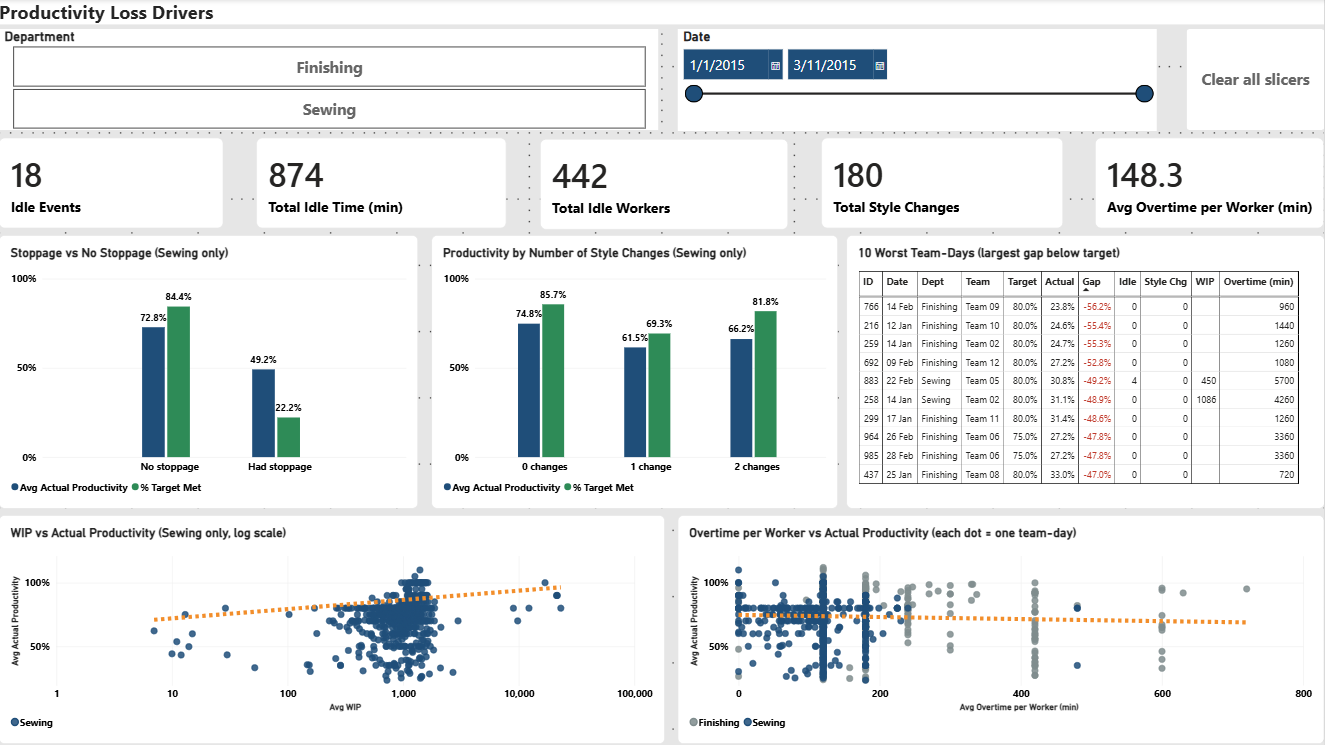

Layout of this report page (visuals, bound fields, positions):
{"tool":"powerbi","page":{"name":"Loss Drivers","canvas":[1920,1080],"ordinal":2},"visuals":[{"type":"textbox","box":[0,0,1920.3,37],"z":0},{"type":"slicer","fields":{"Values":["Production.department"]},"box":[0,42.6,955.6,146.3],"z":1000},{"type":"slicer","fields":{"Values":["DimDate.Date"]},"box":[983.3,42.6,692.6,146.3],"z":2000},{"type":"actionButton","box":[1720.4,42.6,200,146.3],"z":3000},{"type":"cardVisual","fields":{"Data":["_Measures.Idle Events"]},"box":[0,201.9,325.9,131.5],"z":4000},{"type":"cardVisual","fields":{"Data":["_Measures.Total Style Changes"]},"box":[1191.2,201.9,350,131.5],"z":5000},{"type":"cardVisual","fields":{"Data":["_Measures.Total Idle Time (min)"]},"box":[373.6,201.9,363,131.5],"z":6000},{"type":"cardVisual","fields":{"Data":["_Measures.Total Idle Workers"]},"box":[784.3,203.7,359.3,131.5],"z":7000},{"type":"cardVisual","fields":{"Data":["_Measures.Avg Overtime per Worker (min)"]},"box":[1588.5,201.9,331.5,131.5],"z":8000},{"type":"clusteredColumnChart","title":"Stoppage vs No Stoppage (Sewing only)","fields":{"Category":["Production.idle_flag"],"Y":["_Measures.Avg Actual Productivity","_Measures.% Target Met"]},"box":[0,342.6,607.4,396.3],"z":9000},{"type":"clusteredColumnChart","title":"Productivity by Number of Style Changes (Sewing only)","fields":{"Category":["Production.style_change_label"],"Y":["_Measures.Avg Actual Productivity","_Measures.% Target Met"]},"box":[625.9,342.6,588.9,396.3],"z":10000},{"type":"scatterChart","title":"WIP vs Actual Productivity (Sewing only, log scale)","fields":{"Category":["Production.record_id"],"Series":["Production.department"],"X":["_Measures.Avg WIP"],"Y":["_Measures.Avg Actual Productivity"]},"box":[0,748.1,964.8,331.5],"z":11000},{"type":"scatterChart","title":"Overtime per Worker vs Actual Productivity (each dot = one team-day)","fields":{"Category":["Production.record_id"],"Series":["Production.department"],"X":["_Measures.Avg Overtime per Worker (min)"],"Y":["_Measures.Avg Actual Productivity"]},"box":[983.5,748.1,936.5,331.5],"z":12000},{"type":"tableEx","title":"10 Worst Team-Days (largest gap below target)","fields":{"Values":["Production.record_id","Production.date","Production.department","Production.team_name","Sum(Production.targeted_productivity)","Sum(Production.actual_productivity)","Sum(Production.productivity_gap)","Sum(Production.idle_time)","Sum(Production.no_of_style_change)","Sum(Production.wip)","Sum(Production.over_time)"]},"box":[1227.8,342.6,692.6,396.3],"z":13000}]}

Visuals, with their boxes in screenshot pixels (x1, y1, x2, y2), scaled from the page's 1920x1080 canvas onto the 1325x745 screenshot:
textbox: [0,0,1324,26]
slicer - Production.department: [0,29,659,130]
slicer - DimDate.Date: [679,29,1157,130]
actionButton: [1187,29,1324,130]
cardVisual - _Measures.Idle Events: [0,139,225,230]
cardVisual - _Measures.Total Style Changes: [822,139,1064,230]
cardVisual - _Measures.Total Idle Time (min): [258,139,508,230]
cardVisual - _Measures.Total Idle Workers: [541,141,789,231]
cardVisual - _Measures.Avg Overtime per Worker (min): [1096,139,1324,230]
"Stoppage vs No Stoppage (Sewing only)" clusteredColumnChart: [0,236,419,510]
"Productivity by Number of Style Changes (Sewing only)" clusteredColumnChart: [432,236,838,510]
"WIP vs Actual Productivity (Sewing only, log scale)" scatterChart: [0,516,666,744]
"Overtime per Worker vs Actual Productivity (each dot = one team-day)" scatterChart: [679,516,1324,744]
"10 Worst Team-Days (largest gap below target)" tableEx: [847,236,1324,510]
